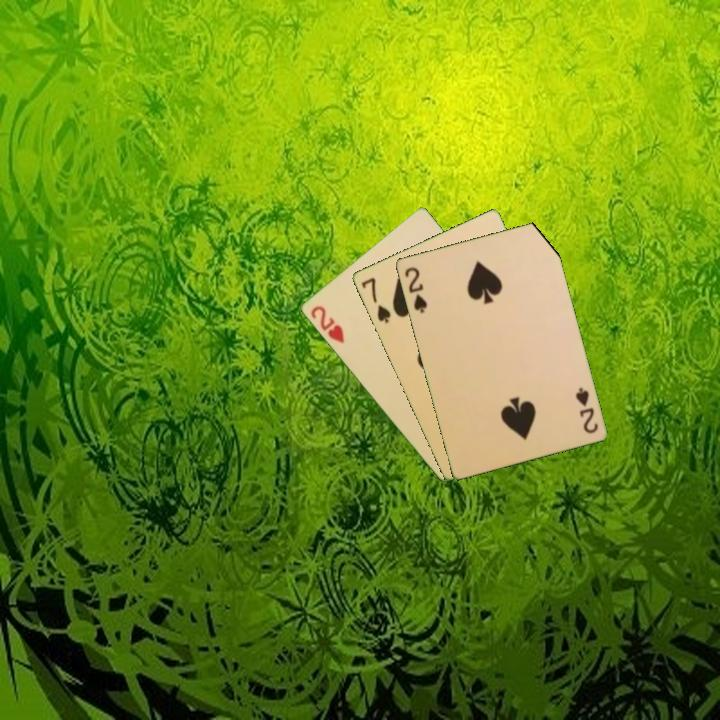2h: (306, 302, 347, 346)
2s: (401, 263, 430, 316), (572, 384, 601, 436)
7s: (358, 274, 393, 326)
